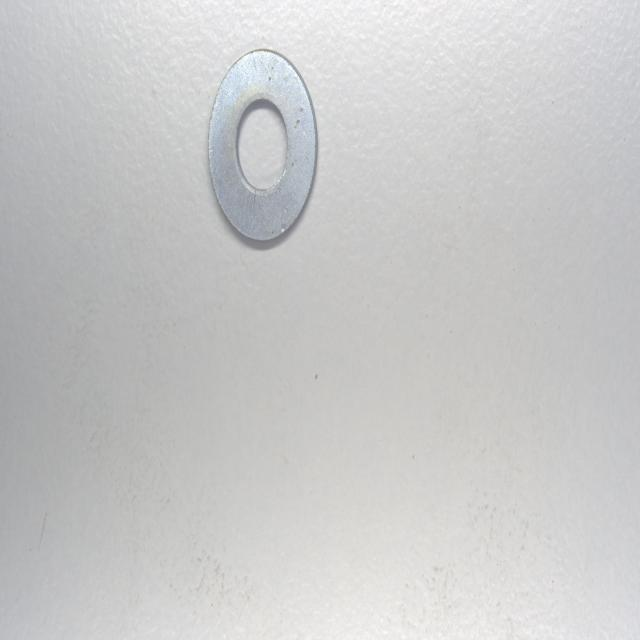washer: (205, 48, 317, 244)
